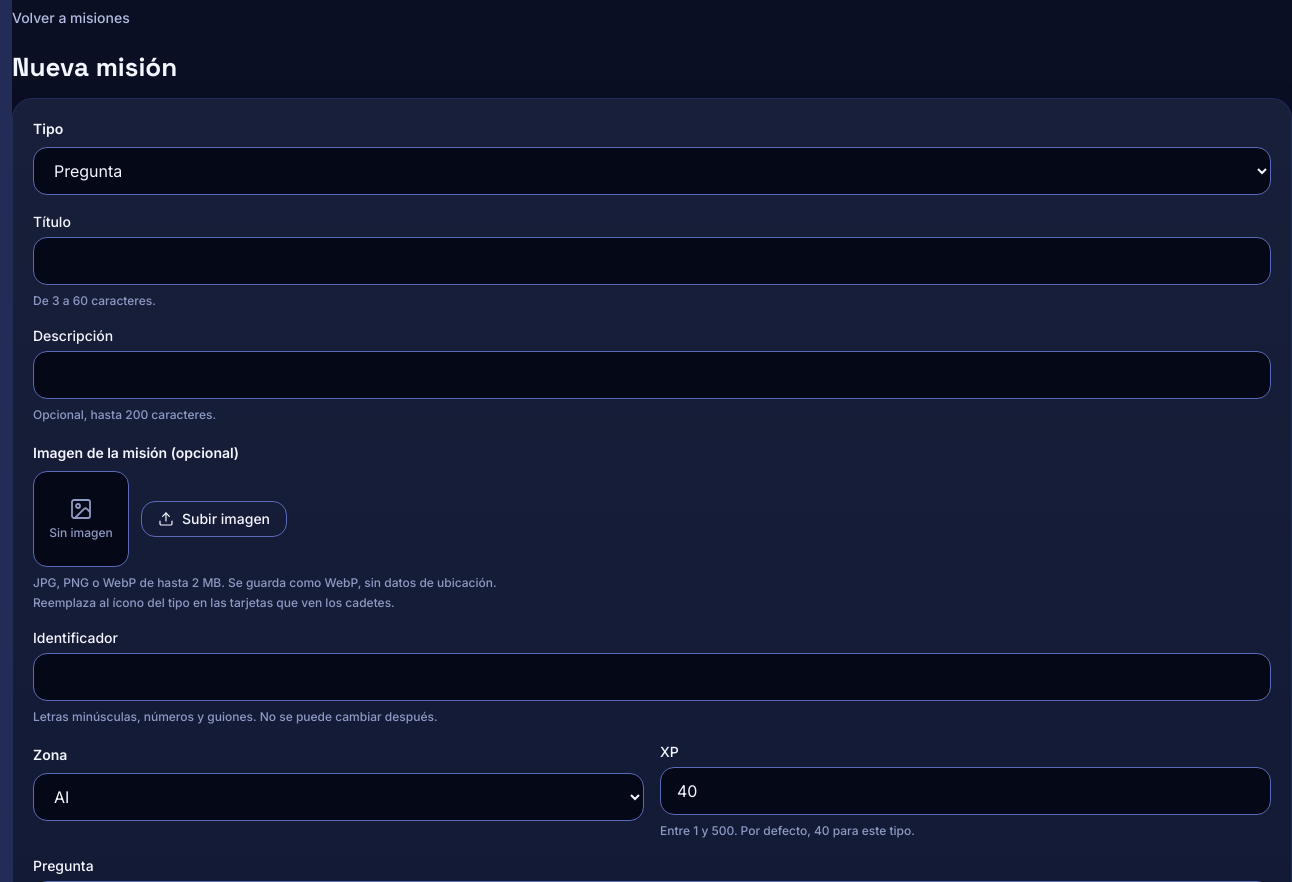
Test: MissionForm › asks to create a talk first when there is none, and does not let it save
The image size is (1292, 882).
Select "QR de charla" in the dropdown labelled "Tipo" at (652, 171), box left=33, top=147, right=1271, bottom=195
(page scrolled)
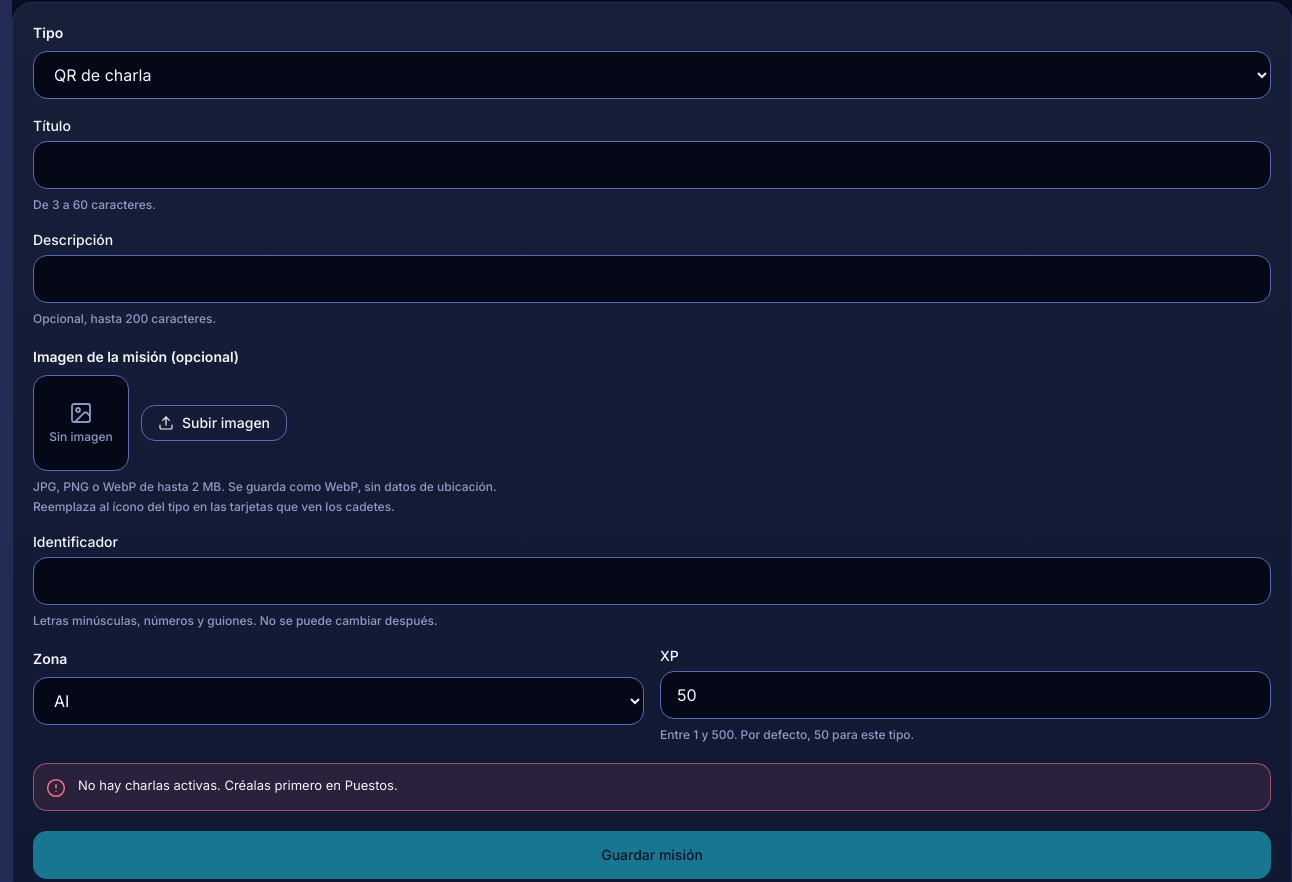
Result: the message reads "No hay charlas activas. Créalas primero en Puestos." at left=78, top=777, right=398, bottom=793
Result: the button "Guardar misión" is disabled at left=33, top=831, right=1271, bottom=879
